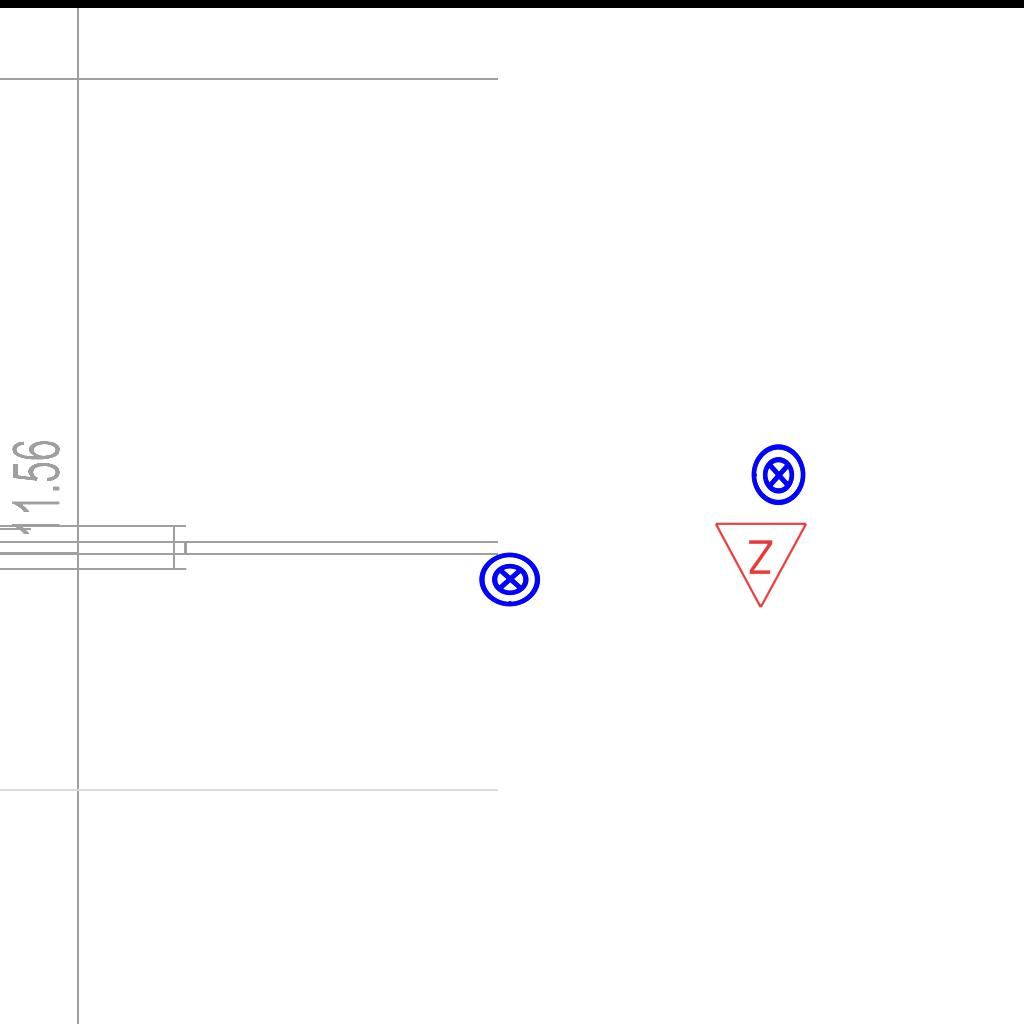Taster_beleuchtet: (477, 546, 543, 612), (746, 442, 812, 508)
Zimmersignalleuchte: (713, 515, 811, 615)
